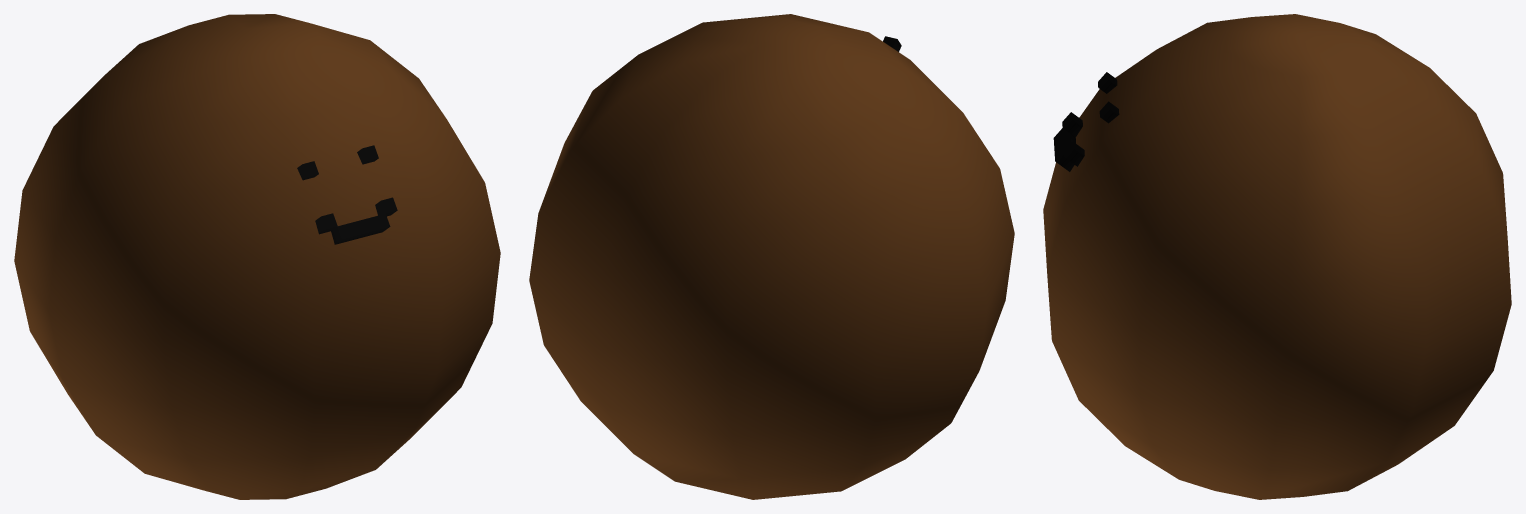
File: AvoPip.obj
3 renders of one model, left to right at view 1: azimuth 30°, elevation 25°; view 2: azimuth 150°, elevation 25°; view 3: azimuth 270°, elevation 25°, orthographic.
Parts seen in each view (by area): view 1: polySurface1; view 2: polySurface1; view 3: polySurface1.
Part boxes in pixels (x1,y1,x2,y2): polySurface1: [14, 14, 500, 499]; polySurface1: [529, 14, 1014, 499]; polySurface1: [1043, 14, 1511, 499].
Bounding box in the file's own units: 22.16 × 22.09 × 21.17.
Materials: 1 (1 with a texture image).
